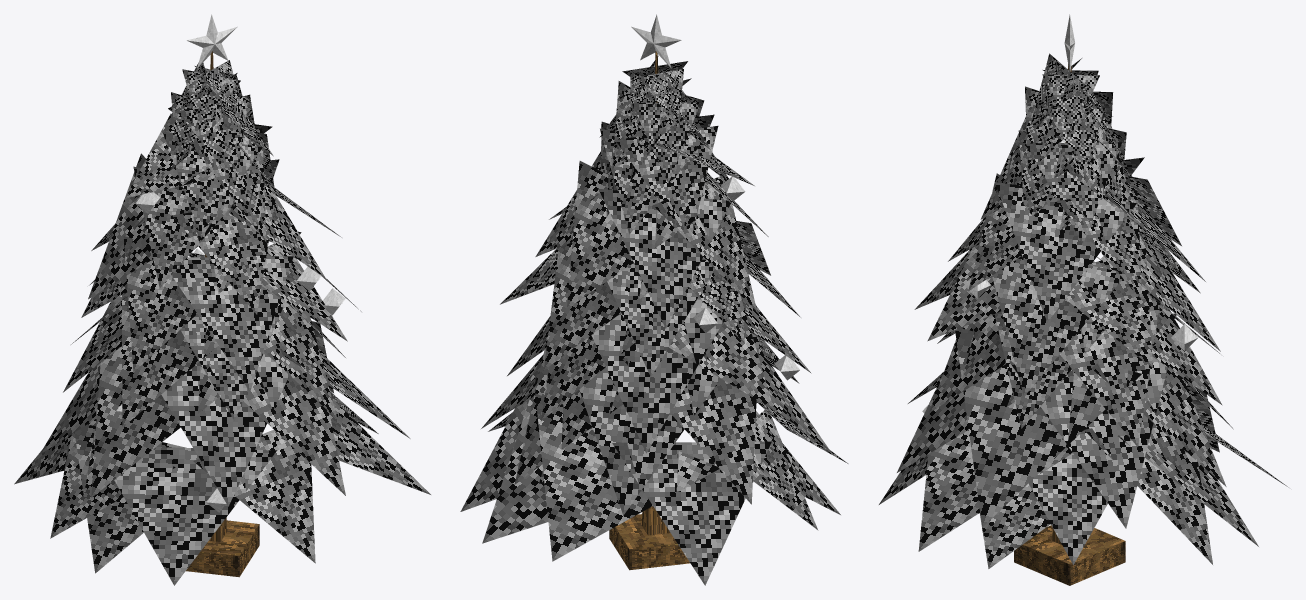
File: ChristmasTree.glb
3 renders of one model, left to right at view 1: azimuth 30°, elevation 25°; view 2: azimuth 150°, elevation 25°; view 3: azimuth 270°, elevation 25°, orthographic. The views are drawn at different scales.
Parts seen in each view (by area): view 1: Leaves, StandTrunk, Decorations; view 2: Leaves, StandTrunk, Decorations; view 3: Leaves, StandTrunk, Decorations.
Part boxes in pixels (x1,y1,x2,y2): Leaves: (14,60,430,585); StandTrunk: (164,51,259,577); Decorations: (112,14,345,512); Leaves: (460,55,848,585); StandTrunk: (609,51,689,570); Decorations: (546,14,799,380); Leaves: (879,53,1288,568); StandTrunk: (1014,64,1125,585); Decorations: (922,14,1197,413).
Bounding box in the file's own units: 1.22 × 1.9 × 1.3.
1 material, 1 textured.
